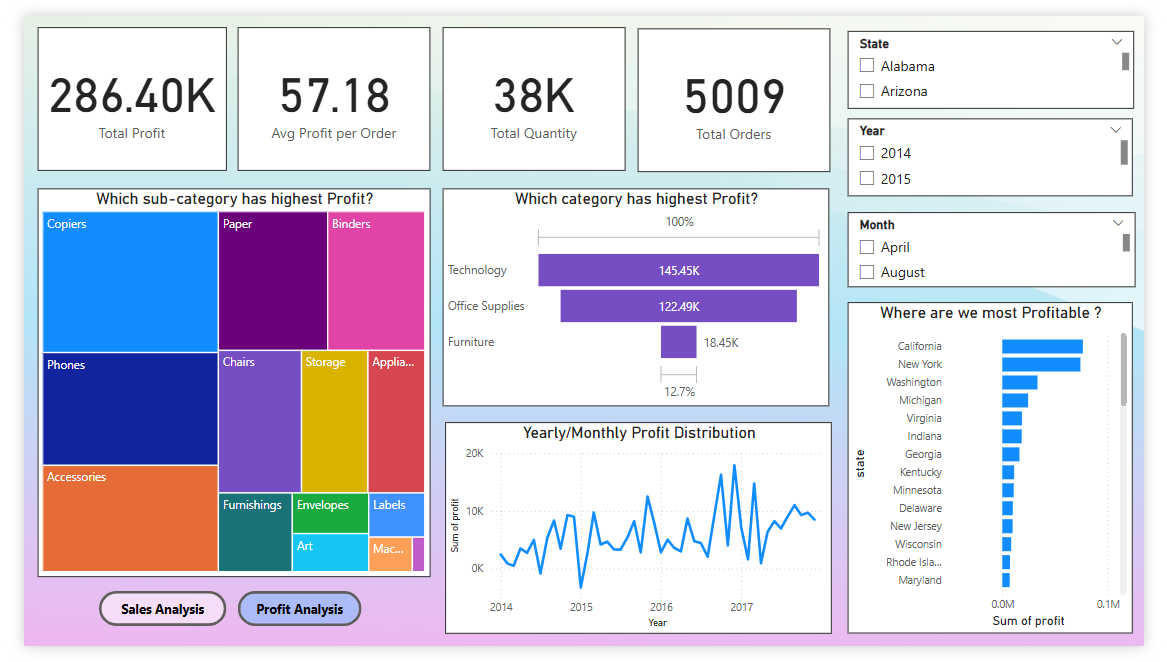

What the dashboard file says about the page in this screenshot:
{"tool":"powerbi","page":{"name":"Page 2","canvas":[1280,720],"ordinal":1},"visuals":[{"type":"card","fields":{"Values":["public superstore.Total Profit"]},"box":[15.7,12.9,215.7,164.3],"z":0},{"type":"card","fields":{"Values":["public superstore.Total Orders"]},"box":[701.4,14.3,220,164.3],"z":1000},{"type":"slicer","fields":{"Values":["public superstore.Year"]},"box":[941.4,117.1,325.7,88.6],"z":2000},{"type":"slicer","fields":{"Values":["public superstore.state"]},"box":[941.4,17.1,327.1,88.6],"z":3000},{"type":"card","fields":{"Values":["public superstore.Total Quantity"]},"box":[478.6,12.9,208.6,164.3],"z":4000},{"type":"slicer","fields":{"Values":["public superstore.Month"]},"box":[941.4,224.3,328.6,85.7],"z":5000},{"type":"lineChart","title":"Yearly/Monthly Profit Distribution","fields":{"Y":["Sum(public superstore.profit)"],"Category":["public superstore.order_date.Variation.Date Hierarchy.Year","public superstore.order_date.Variation.Date Hierarchy.Month"]},"box":[481.4,464.3,441.4,241.4],"z":7000},{"type":"card","fields":{"Values":["public superstore.Avg Profit per Order"]},"box":[244.3,12.9,220,164.3],"z":8000},{"type":"treemap","title":"Which sub-category has highest Profit?","fields":{"Values":["Sum(public superstore.profit)"],"Group":["public superstore.sub_category"]},"box":[15.7,197.1,448.6,444.3],"z":9000},{"type":"funnel","title":"Which category has highest Profit?","fields":{"Category":["public superstore.category"],"Y":["Sum(public superstore.profit)"]},"box":[478.6,197.1,441.4,248.6],"z":9002},{"type":"clusteredBarChart","title":"Where are we most Profitable ?","fields":{"Y":["Sum(public superstore.profit)"],"Category":["public superstore.state"]},"box":[941.4,327.1,325.7,378.6],"z":9003},{"type":"actionButton","box":[244.3,657.1,141.4,40],"z":9004},{"type":"actionButton","box":[85.7,657.1,145.7,40],"z":9005}]}

Visuals, with their boxes in screenshot pixels (x1, y1, x2, y2), scaled from the page's 1280x720 canvas onto the 1167x662 screenshot:
card - public superstore.Total Profit: (14, 12, 211, 163)
card - public superstore.Total Orders: (639, 13, 840, 164)
slicer - public superstore.Year: (858, 108, 1155, 189)
slicer - public superstore.state: (858, 16, 1157, 97)
card - public superstore.Total Quantity: (436, 12, 627, 163)
slicer - public superstore.Month: (858, 206, 1158, 285)
"Yearly/Monthly Profit Distribution" lineChart: (439, 427, 841, 649)
card - public superstore.Avg Profit per Order: (223, 12, 423, 163)
"Which sub-category has highest Profit?" treemap: (14, 181, 423, 590)
"Which category has highest Profit?" funnel: (436, 181, 839, 410)
"Where are we most Profitable ?" clusteredBarChart: (858, 301, 1155, 649)
actionButton: (223, 604, 352, 641)
actionButton: (78, 604, 211, 641)
